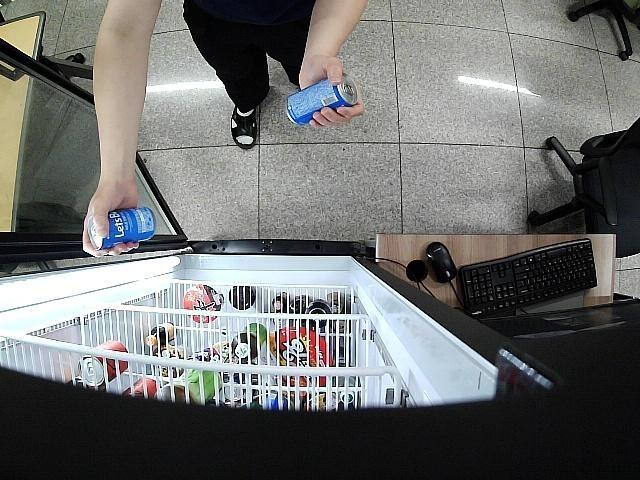15_letsbe: (284, 72, 358, 126), (88, 205, 156, 251)
